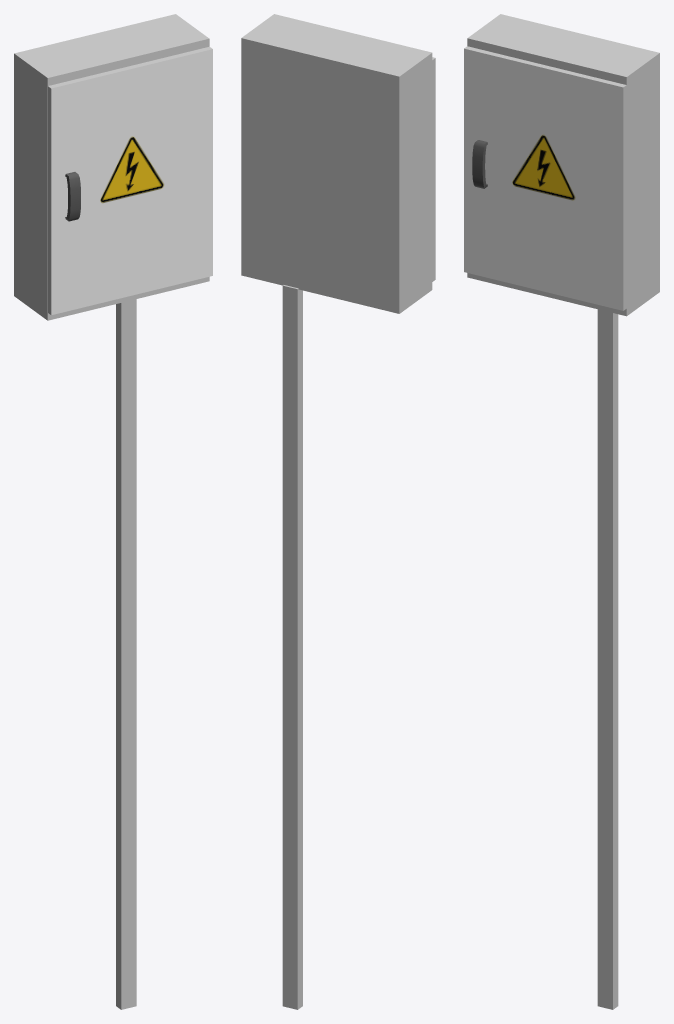
The model's file is FuseBox.glb.
The picture shows the model from 3 angles, left to right: view 1: azimuth 30°, elevation 25°; view 2: azimuth 150°, elevation 25°; view 3: azimuth 330°, elevation 25°; orthographic projection. The views are drawn at different scales.
Visible parts, largest first — view 1: Cube.110, Cube.061, Cube.111, Cube.062; view 2: Cube.061, Cube.111, Cube.110; view 3: Cube.110, Cube.061, Cube.111, Cube.062.
Part boxes in pixels (x1,y1,x2,y2): Cube.110: (48, 46, 212, 315); Cube.061: (14, 14, 209, 320); Cube.111: (116, 299, 136, 1009); Cube.062: (65, 172, 80, 221); Cube.061: (241, 14, 432, 313); Cube.111: (282, 285, 302, 1009); Cube.110: (432, 57, 435, 281); Cube.110: (464, 46, 626, 310); Cube.061: (467, 14, 659, 316); Cube.111: (597, 309, 618, 1009); Cube.062: (472, 140, 487, 188).
Bounding box in the file's own units: 0.5919 × 3.42 × 0.277.
10 materials, 3 textured.
